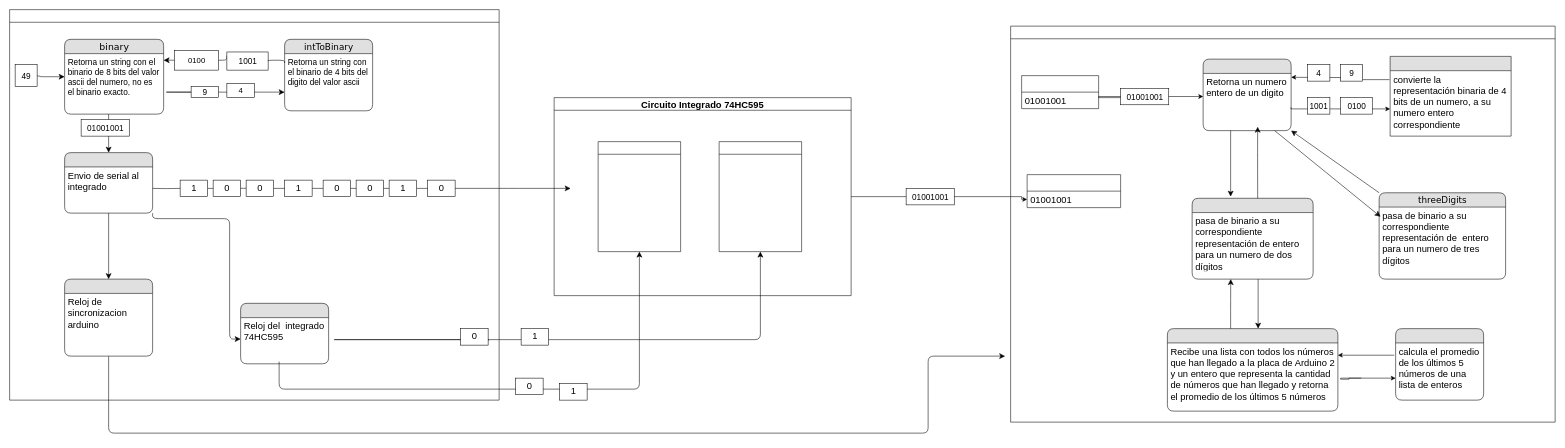
This 1565x448 diagram has some shape labels left out. The box of each missing label's shape, as (x1, y1, x2, y2) in pixels:
binario: (1027, 174, 1121, 208)
binarioTotal: (1021, 75, 1099, 109)
binaryToInt: (1390, 56, 1511, 136)
byteToInt: (1203, 59, 1291, 131)
datoValido: (1167, 328, 1338, 411)
Latch: (719, 141, 802, 252)
Placa de Arduino 1, transmisión de datos: (9, 9, 499, 400)
Placa de Arduino 2, recepción de datos.: (1010, 26, 1555, 422)
promedioDatos: (1395, 328, 1484, 400)
relojEnvio: (64, 279, 153, 356)
relosIntegrado: (240, 303, 329, 364)
sendSerial: (64, 152, 153, 213)
Shift register: (598, 141, 681, 252)
twoDigits: (1192, 198, 1313, 279)
